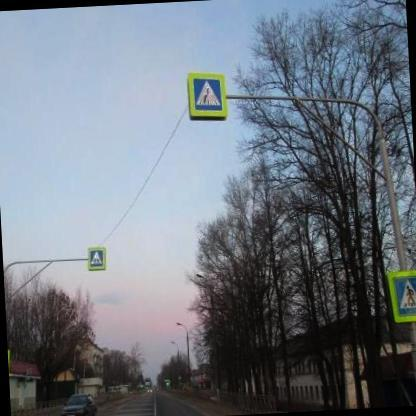obstructed_road_sign: (387, 271, 416, 322)
road_sign: (189, 73, 225, 120), (89, 248, 106, 270)
